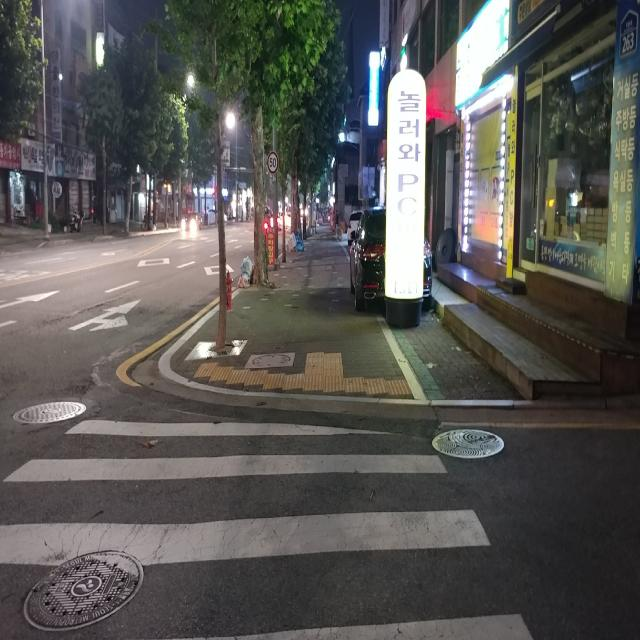횡단보도: (0, 420, 533, 640)
